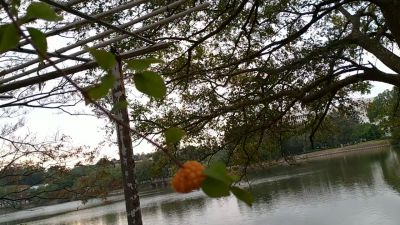eggs: (171, 160, 206, 196)
